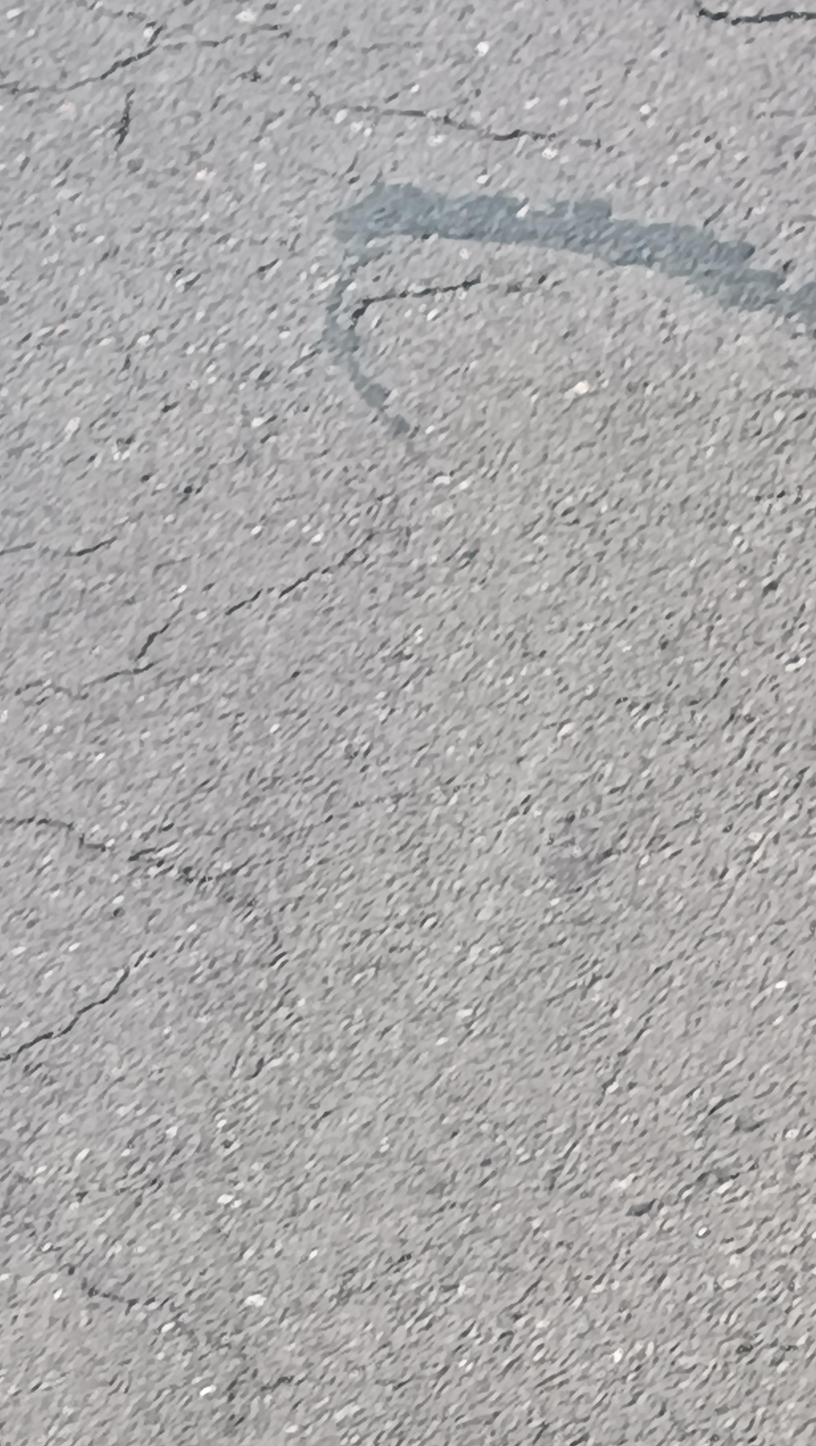PIEL DE COCODRILO: (0, 0, 687, 1406)
